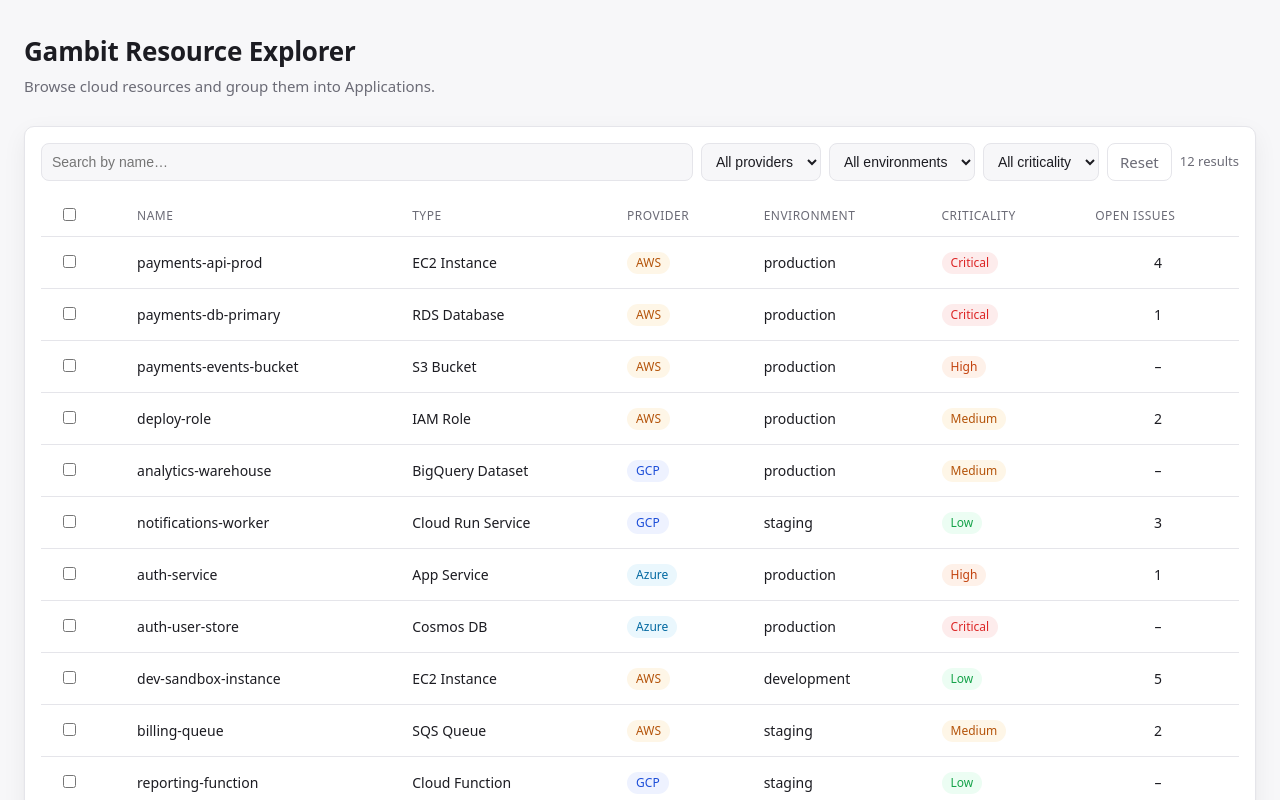
Test: Gambit Resource Explorer - main flows › combines a dropdown filter with search, and Reset clears both
The width and height of the screenshot is (1280, 800).
Select "GCP" in the 1st dropdown: (761, 162) [701, 142, 821, 181]
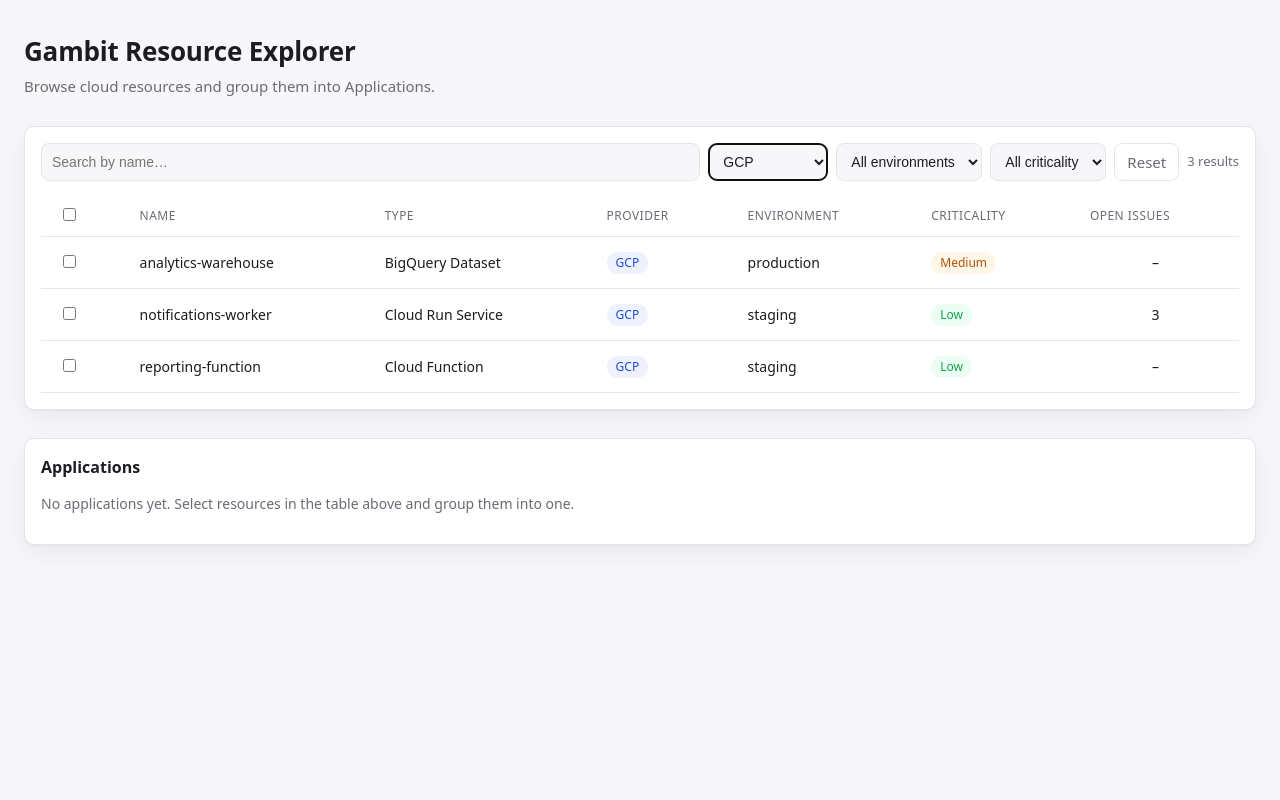
Expected: the text "3 results" is shown, [1187, 152, 1239, 172]
Expected: the text "payments-api-prod" is gone
Click the button "Reset": (1147, 162) [1114, 142, 1179, 181]
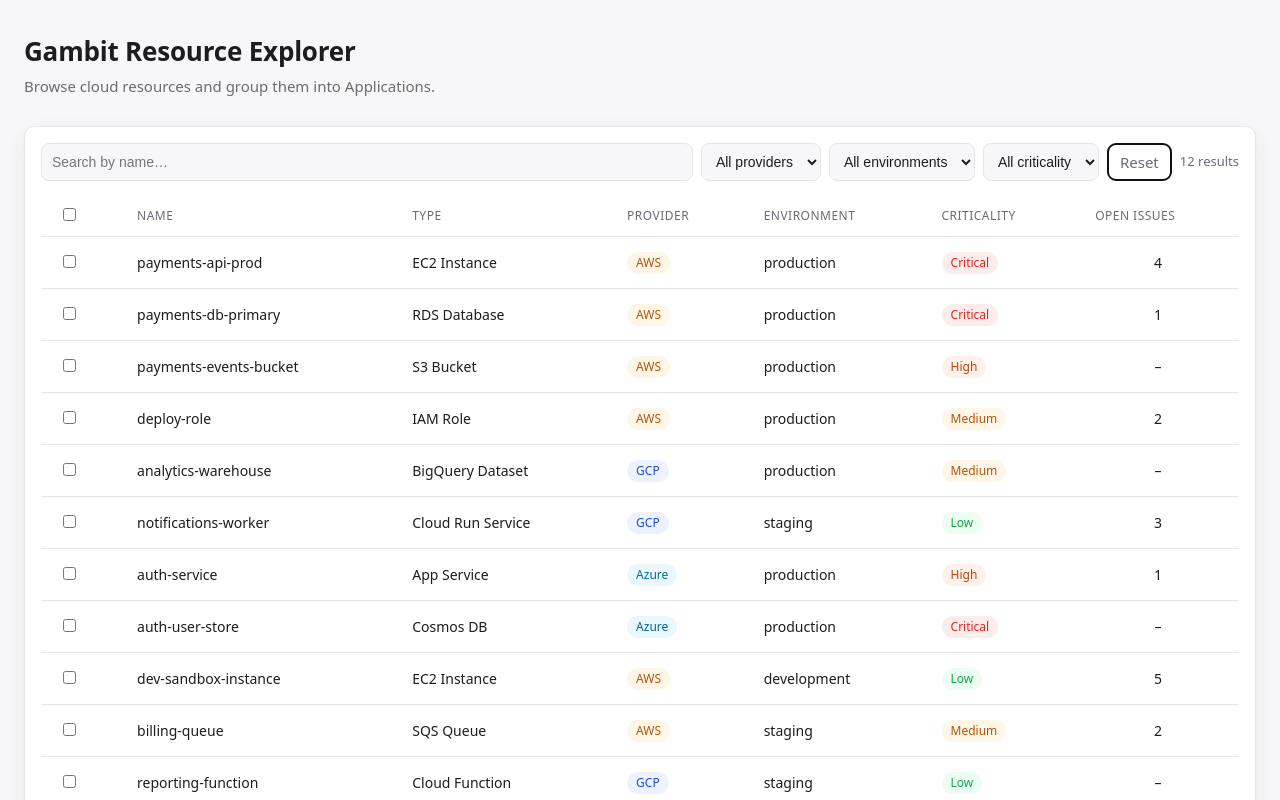
Expected: the text "12 results" is shown, [1180, 152, 1239, 172]
Expected: the text "payments-api-prod" is shown, [137, 253, 262, 272]
